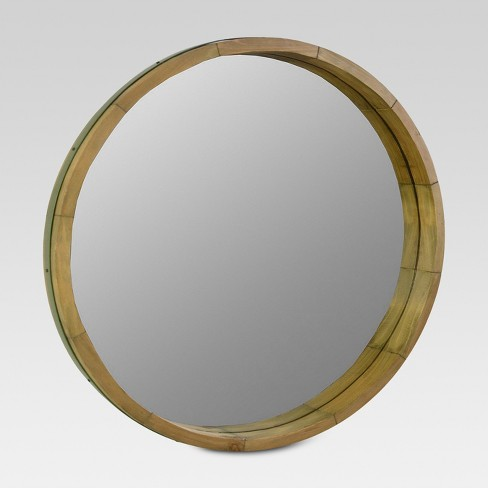Nonrec_Glass: (41, 23, 456, 457)
